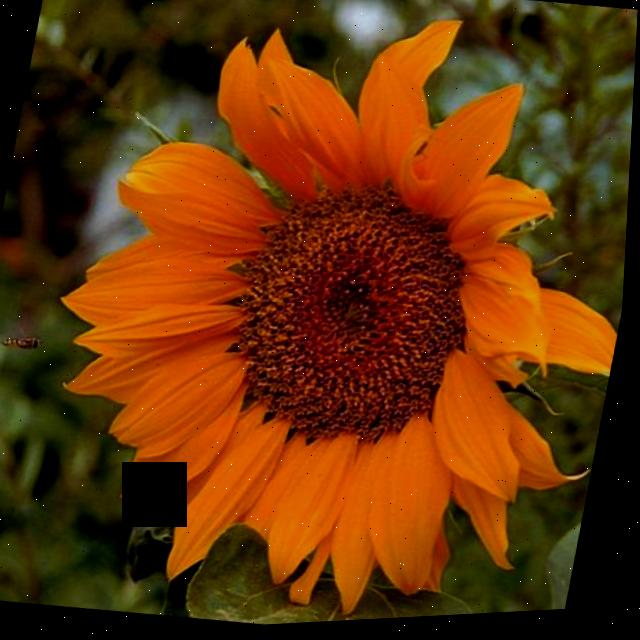sunflower: (0, 0, 640, 640)
